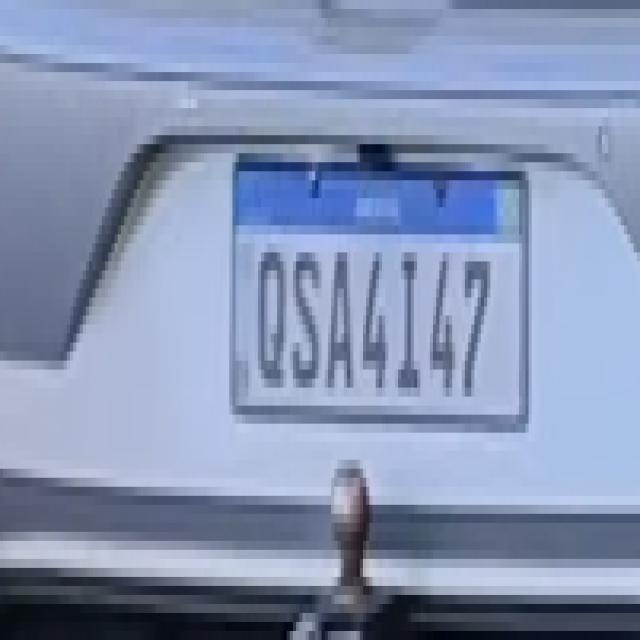Placa_mercosul_carro: (233, 153, 530, 432)
